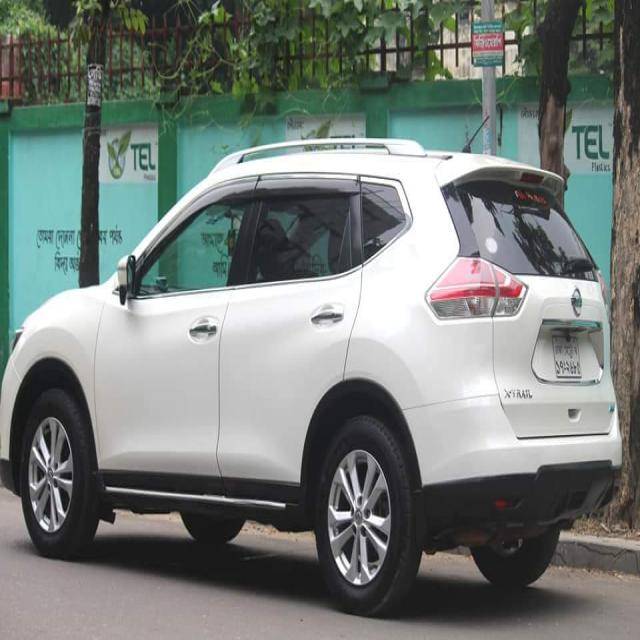white: (1, 106, 640, 576)
